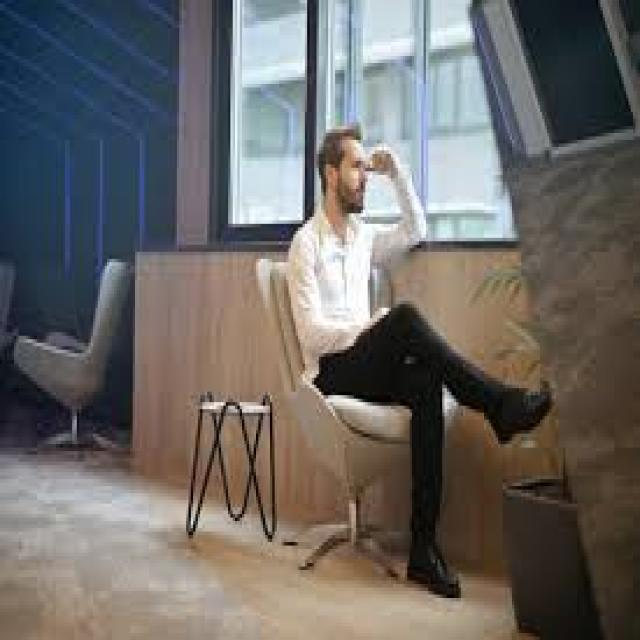nonfall: (286, 91, 541, 593)
